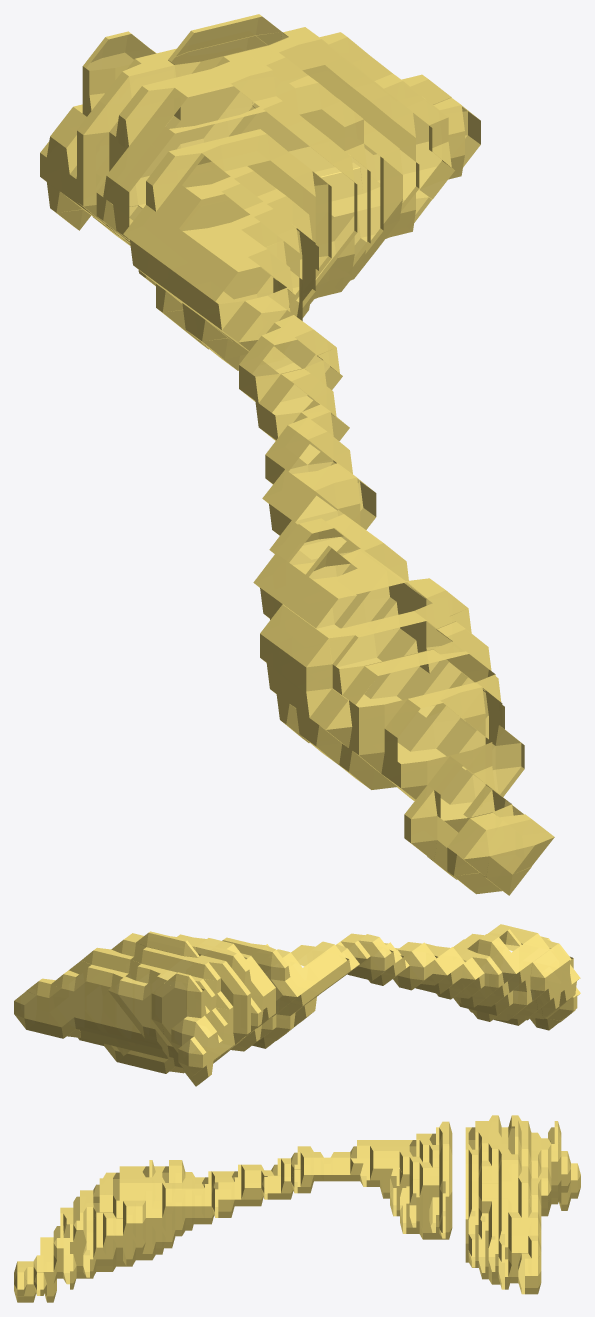
The model's file is SVV_BWM-VR06.gltf.
3 views of the same model, one above another, from view 1: azimuth 30°, elevation 25°; view 2: azimuth 150°, elevation 25°; view 3: azimuth 270°, elevation 25° (orthographic). The views are drawn at different scales.
Visible parts, largest first — view 1: BWM-VR06; view 2: BWM-VR06; view 3: BWM-VR06.
Part boxes in pixels (box(x1,y1,x2,y2)): BWM-VR06: box(40, 14, 554, 895); BWM-VR06: box(14, 924, 580, 1086); BWM-VR06: box(14, 1115, 580, 1302).
Bounding box in the file's own units: 13311 × 9728 × 22027.
